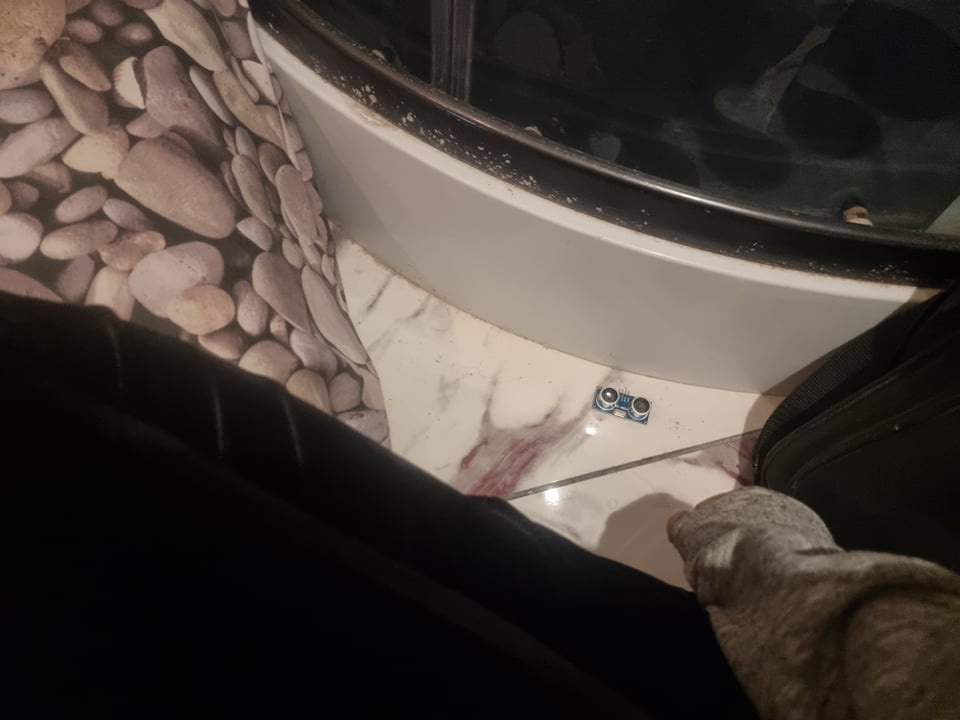SENSOR: (597, 386, 653, 420)
